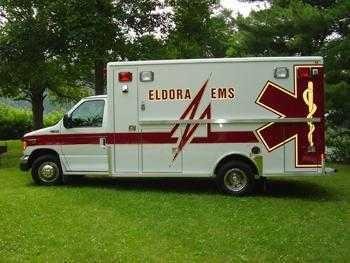car: (19, 55, 326, 195)
